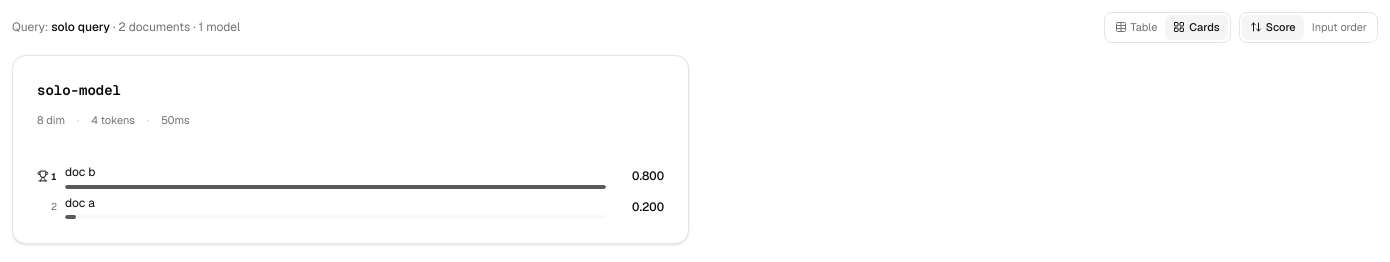
Test: ResultsSection — ModelResultCard (cards view) › switches to input-order ranking without a trophy
Click the button "Input order".
click(1339, 27)  # box [1304,15,1375,40]
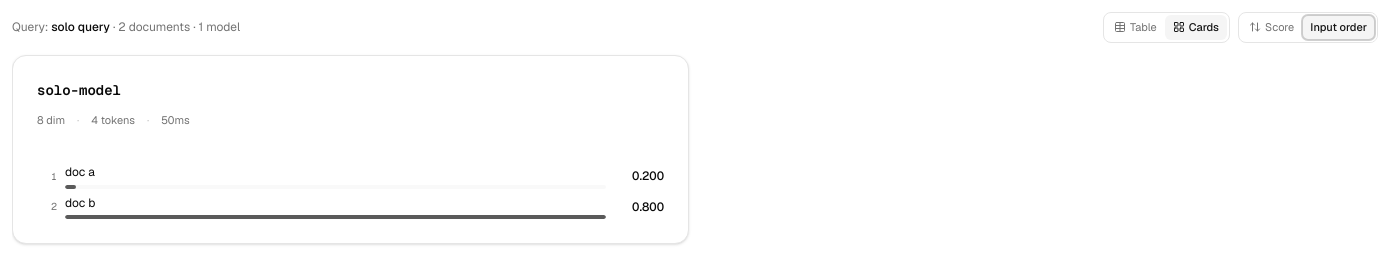
Expected: the text "doc a" is shown, [65,164,95,180]
Expected: no icons with class "lucide-trophy" are shown
